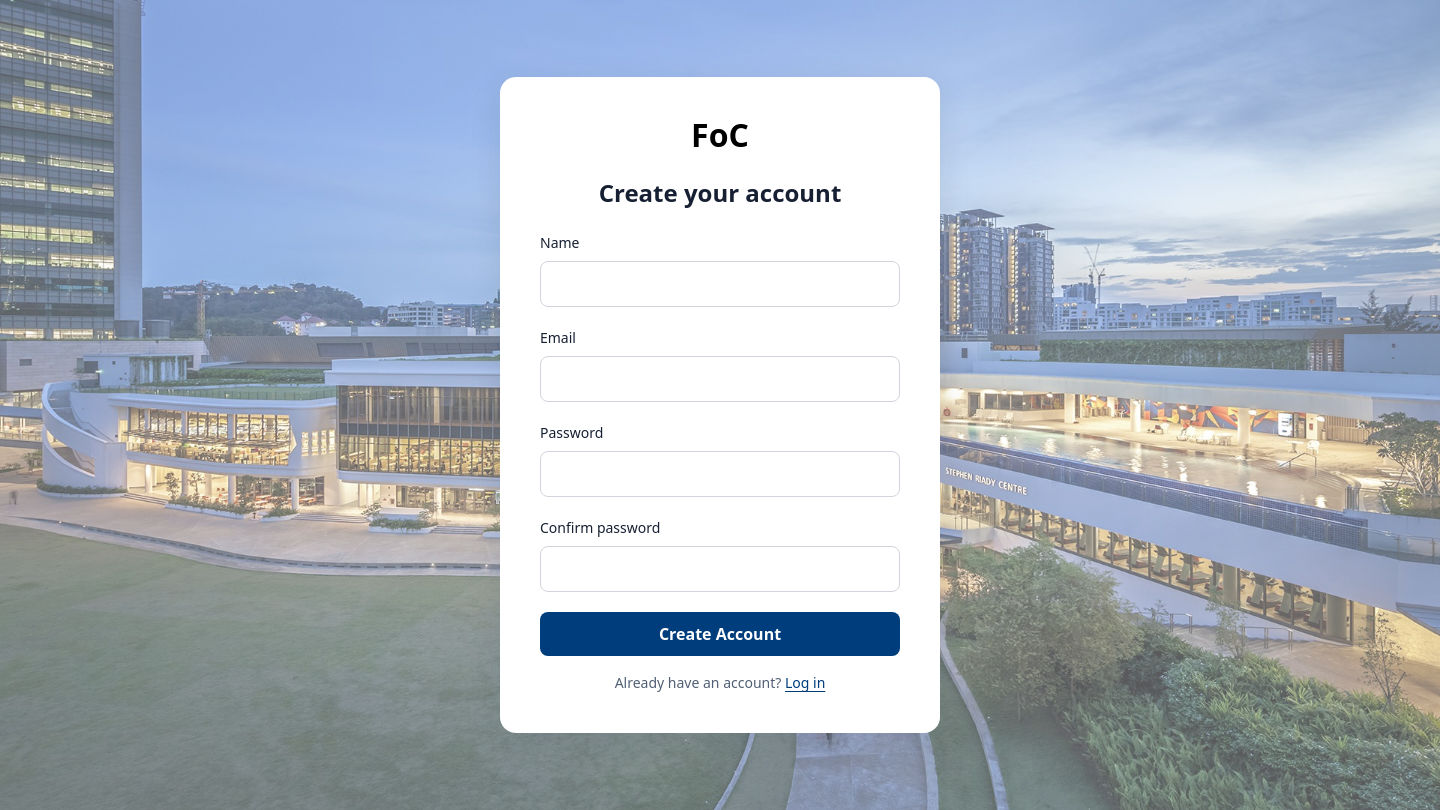
Test: RegisterPage › handles an unsupported email domain without navigating
Expected: the heading "Create your account" is shown, x1=599 y1=176 x2=841 y2=209
In the field labelled "Name": (720, 284) x1=540 y1=262 x2=900 y2=308, type " Jamie "
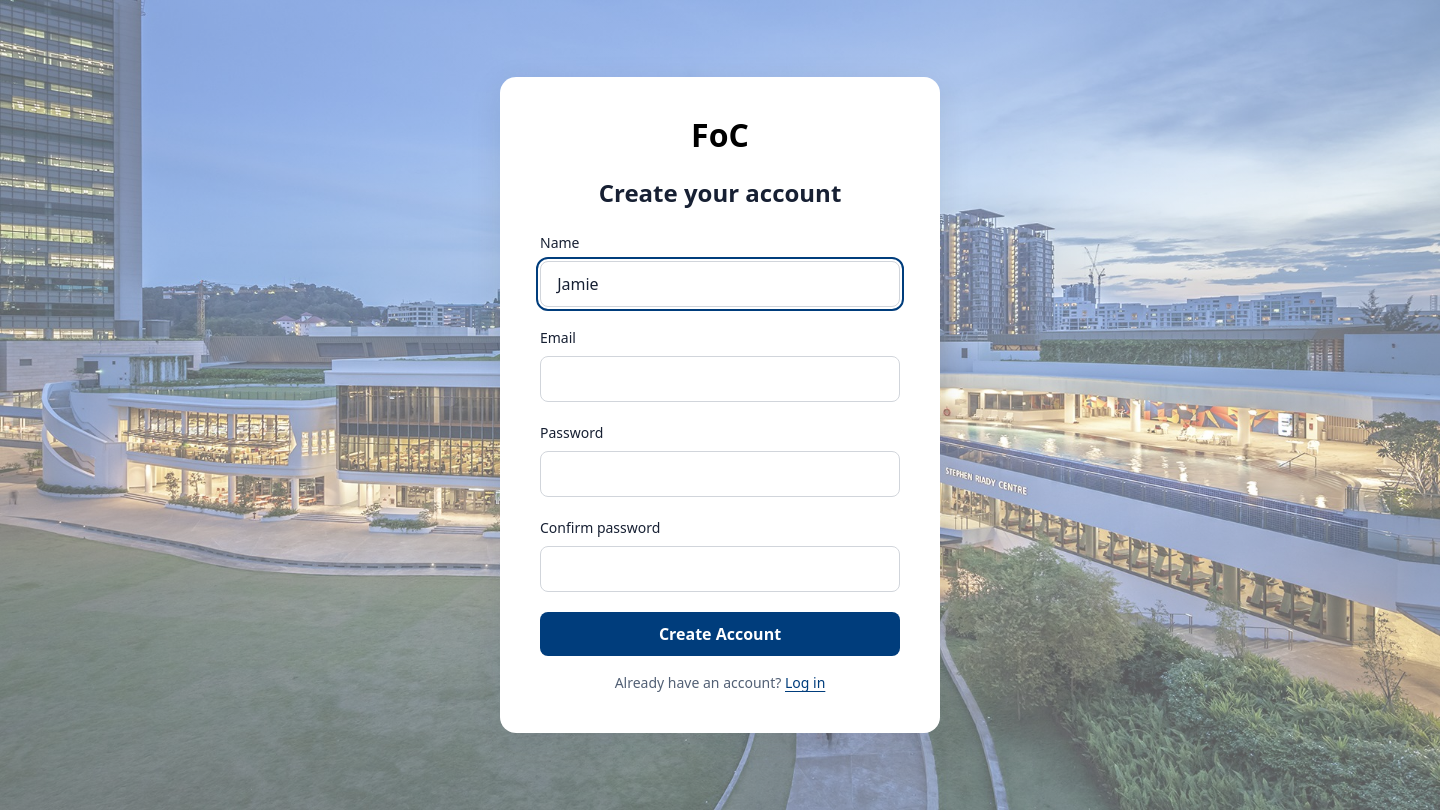
In the field labelled "Email": (720, 380) x1=540 y1=356 x2=900 y2=402, type " JAMIE@U.NUS.EDU "
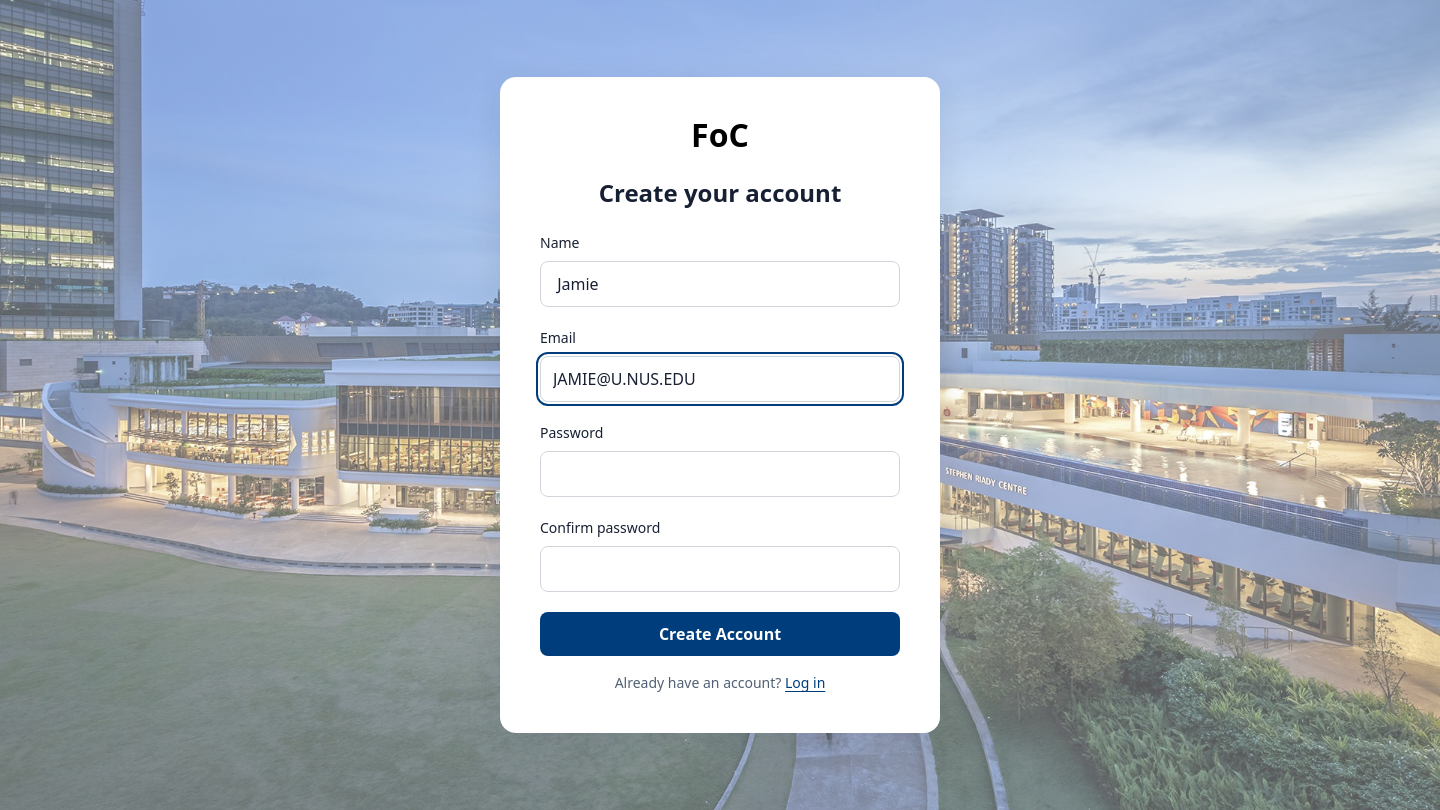
In the password field labelled "Password": (720, 474) x1=540 y1=452 x2=900 y2=498, type " password123 "
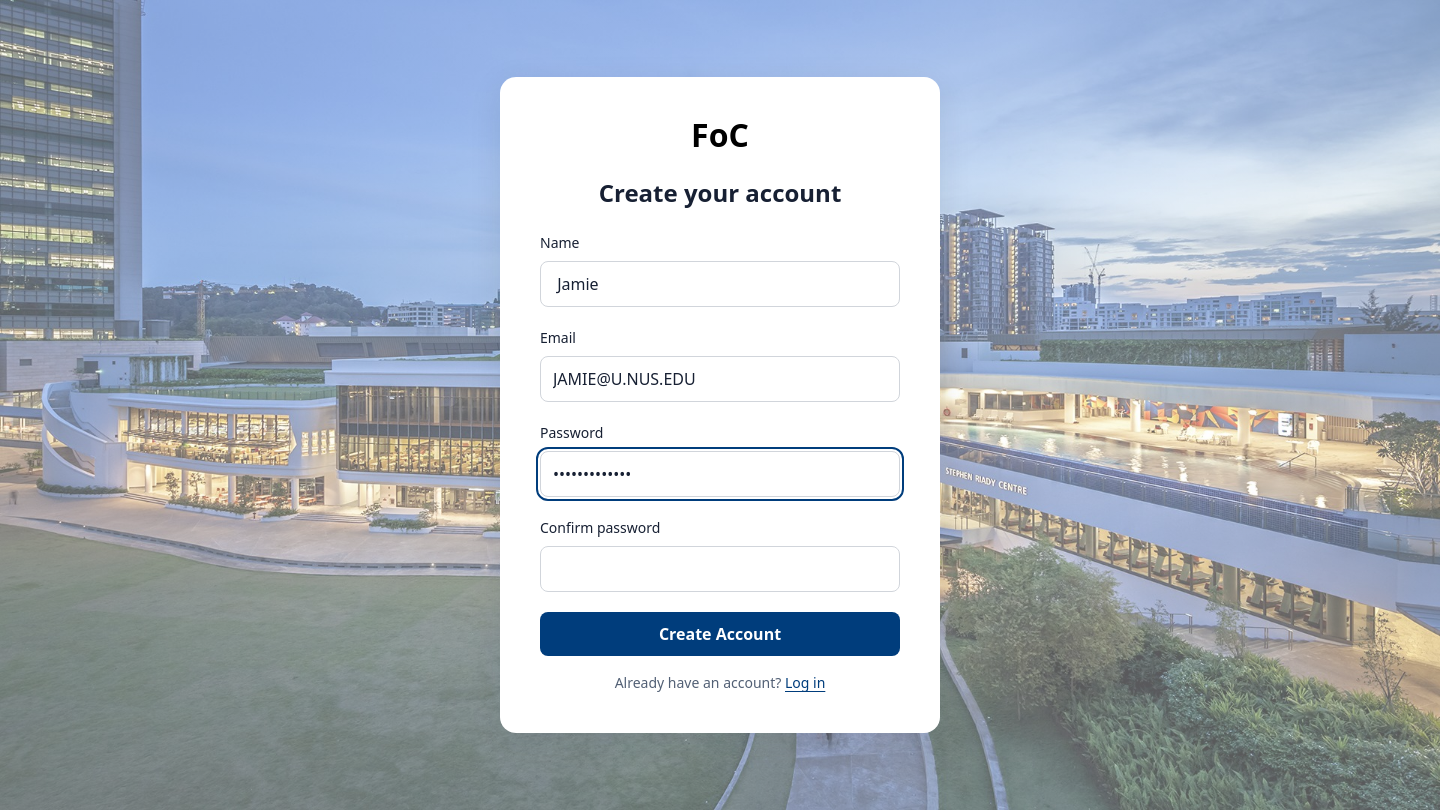
In the password field labelled "Confirm password": (720, 570) x1=540 y1=546 x2=900 y2=592, type " password123 "
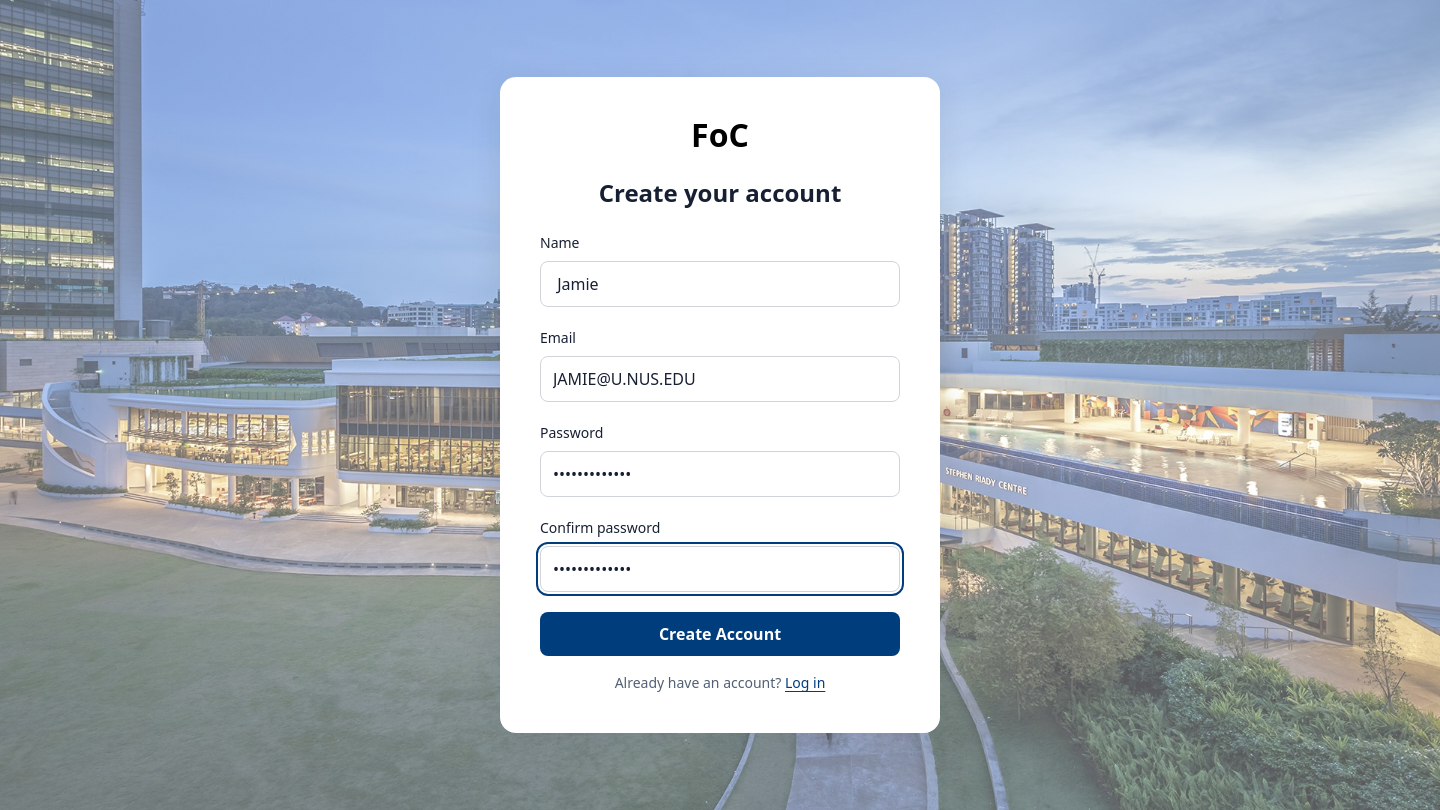
Click the button "Create Account": (720, 634) x1=540 y1=612 x2=900 y2=656
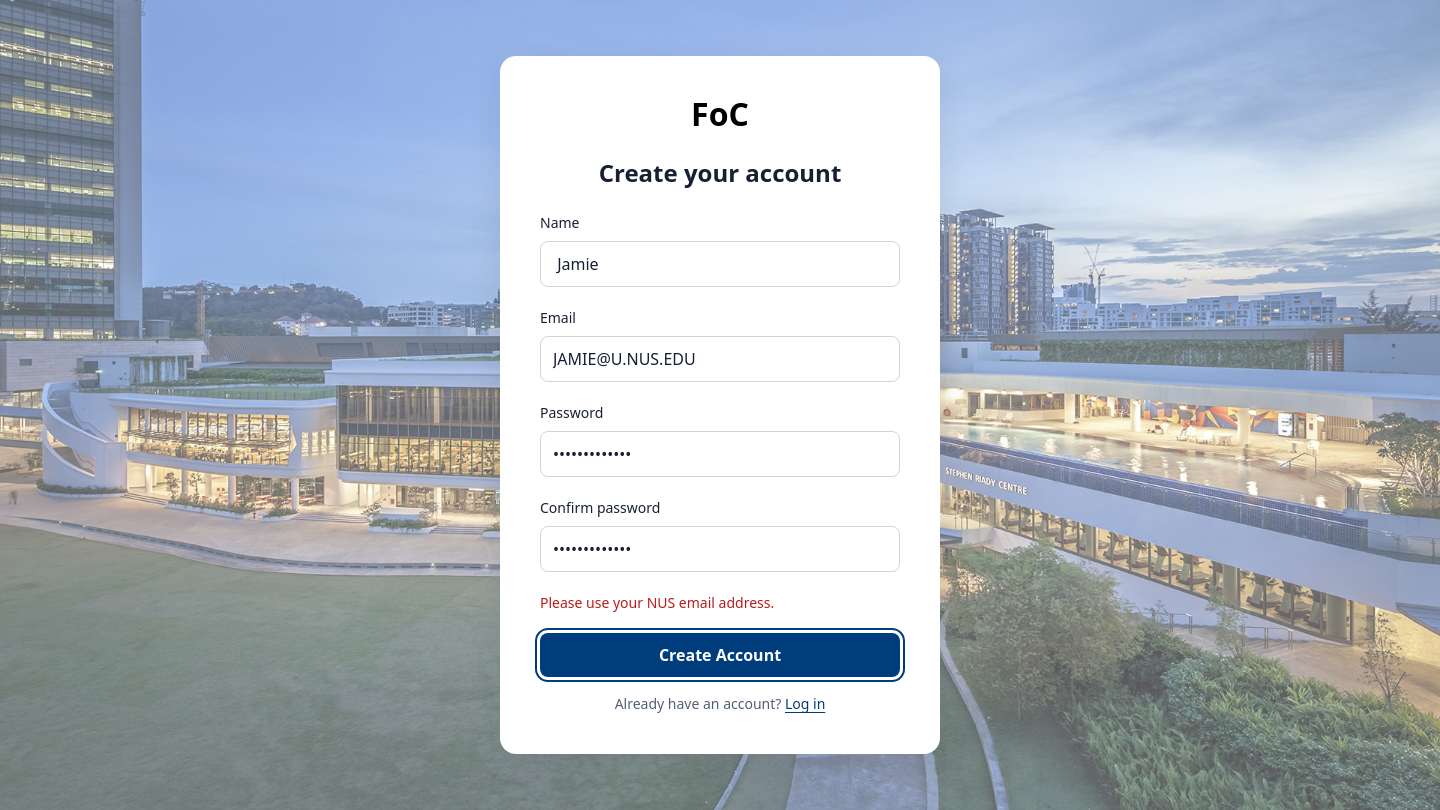
Expected: the button "Create Account" is enabled, x1=540 y1=633 x2=900 y2=677
Result: the message reads "Please use your NUS email address." at x1=540 y1=593 x2=774 y2=612
